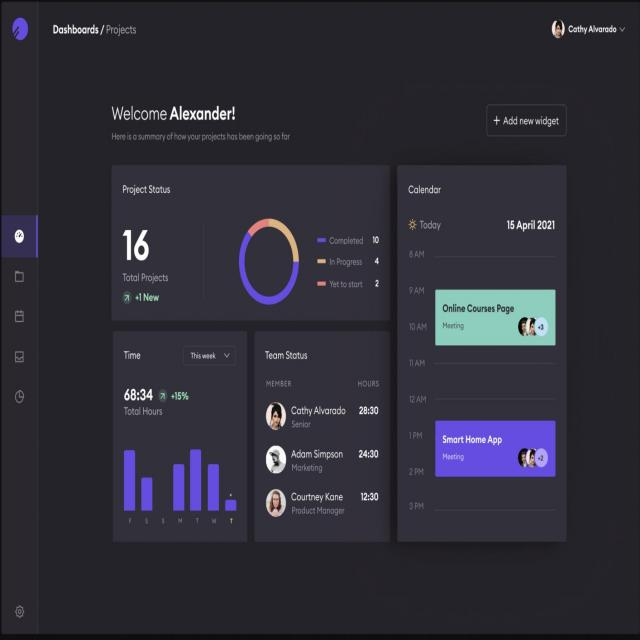button: (486, 103, 566, 136)
select: (184, 346, 237, 366), (568, 22, 628, 37)
